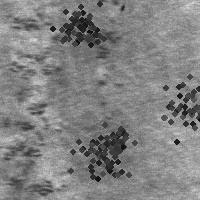rolled-in_scale: (3, 6, 64, 195), (61, 108, 143, 190), (143, 60, 200, 152), (45, 0, 105, 55), (88, 27, 125, 88), (89, 118, 133, 162)
